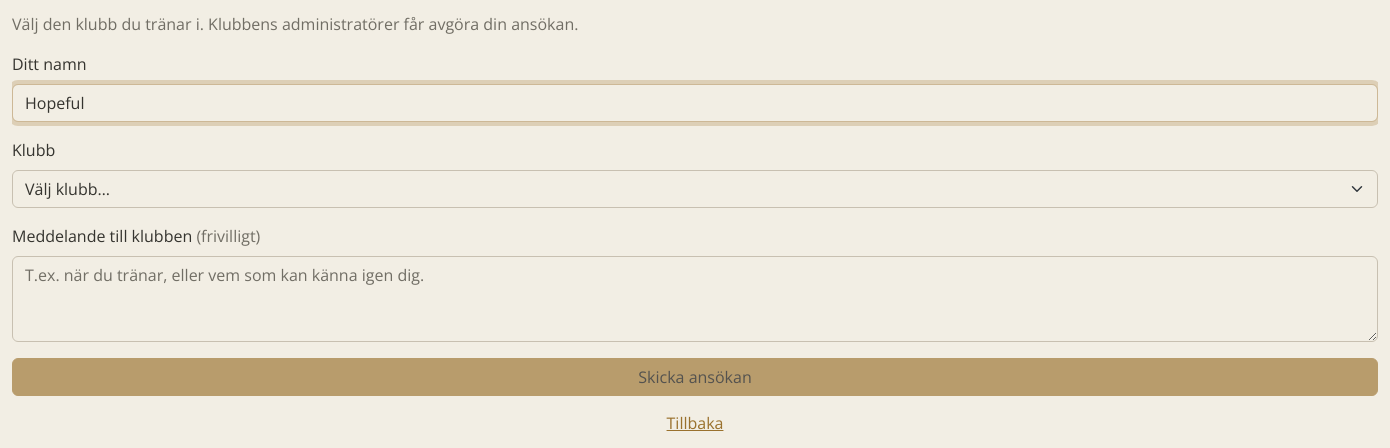
Scenario: RegisterBranch › sends the branch, name and note, then shows the request as pending
Select "Karlstad" in the dropdown labelled "Klubb" at point(695, 189), box [12,170,1378,208]
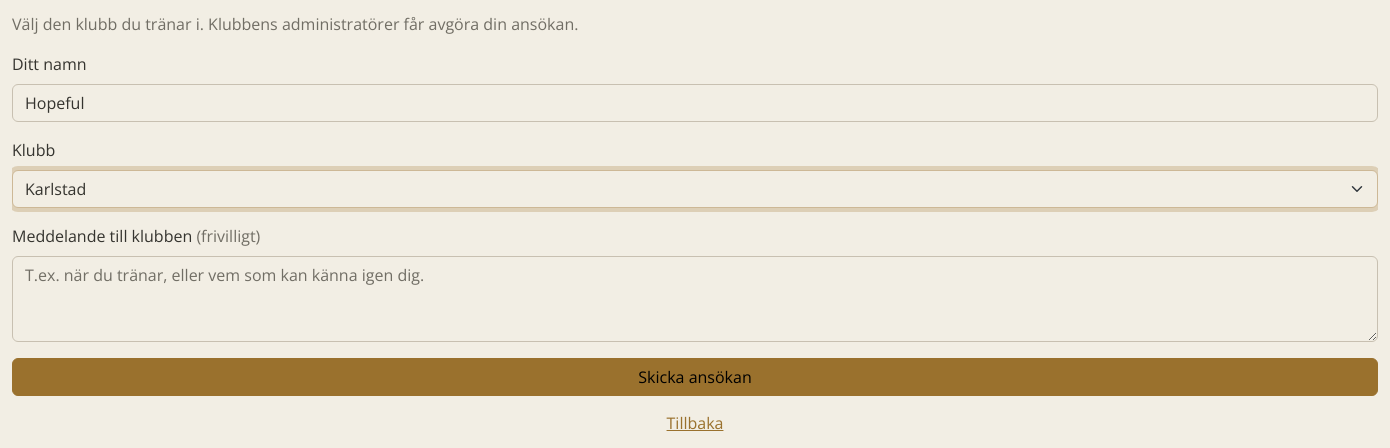
Type "Tränar på tisdagar" into the text box labelled "Meddelande till klubben (frivilligt)" at point(695, 299), box [12,256,1378,342]
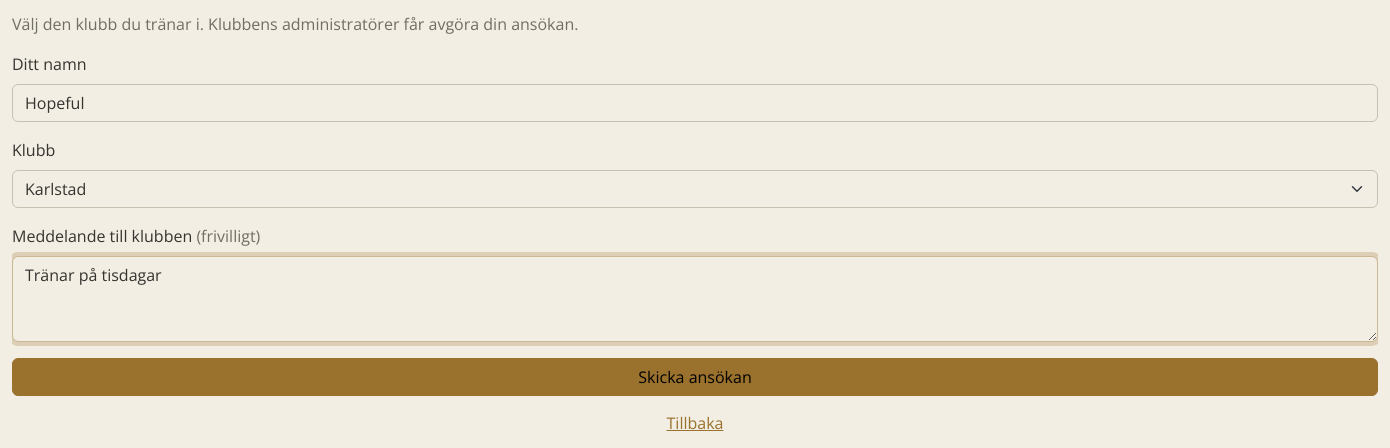
Click the button "Skicka ansökan" at point(695, 377), box [12,358,1378,396]
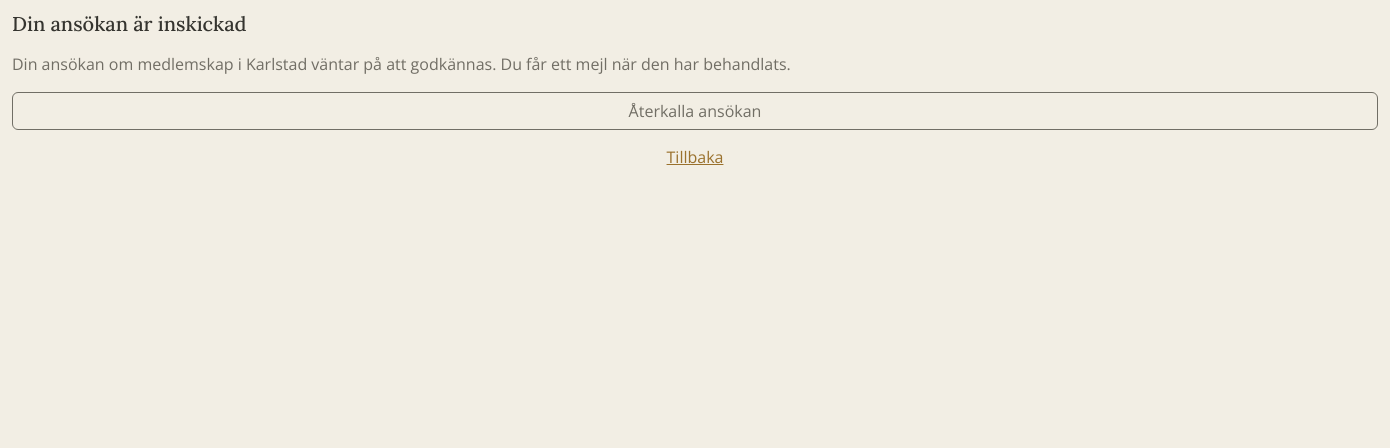
Check: the heading "Din ansökan är inskickad" is shown, box [12,11,246,36]
